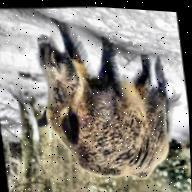boar: (23, 6, 192, 192)
